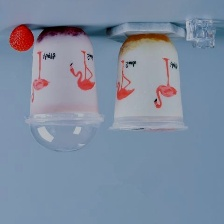glass: (20, 23, 105, 156), (109, 28, 185, 136)
